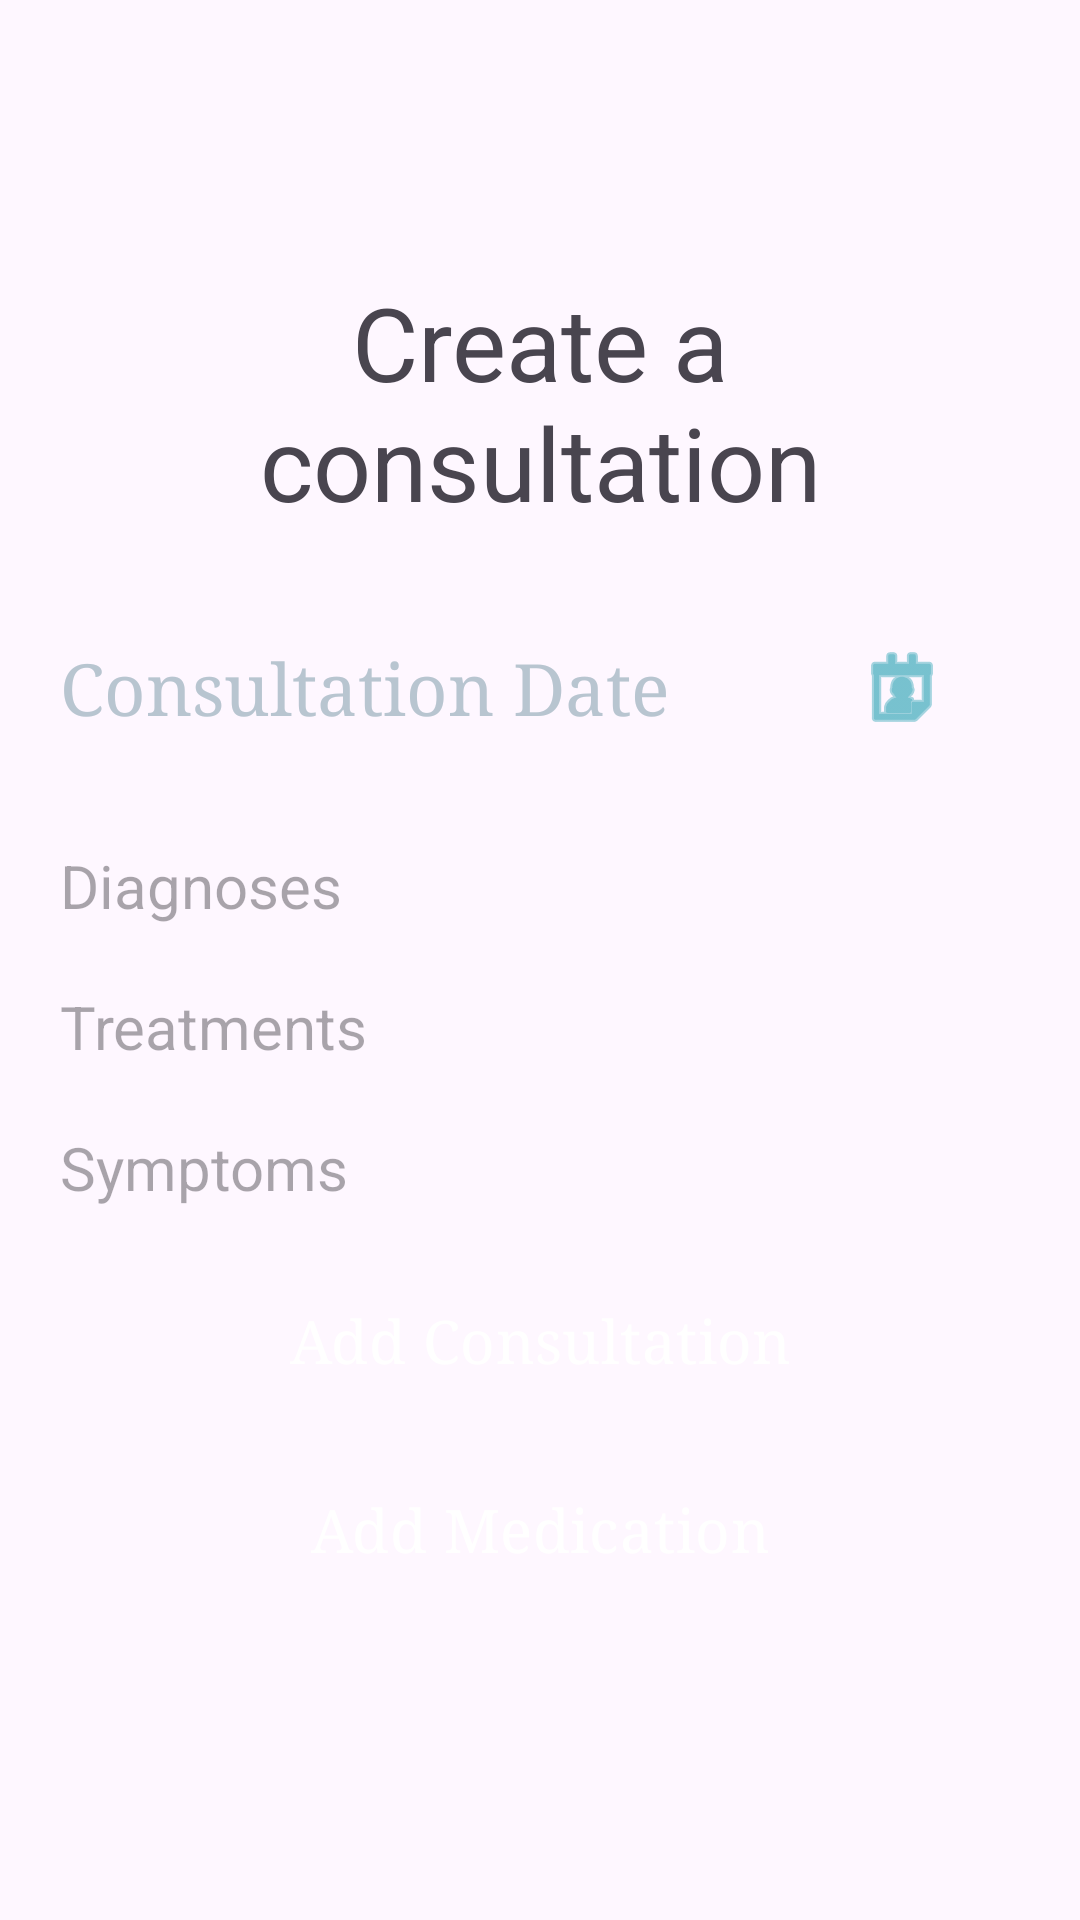

Screen size 1080x1920. Icon name, then its center in pixels as point (x, y):
Pick a date: point (902, 687)
